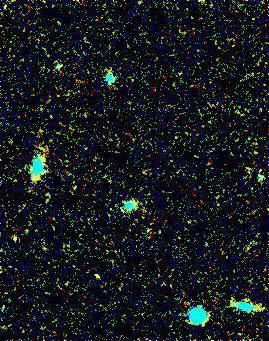star: (90, 260, 120, 290)
